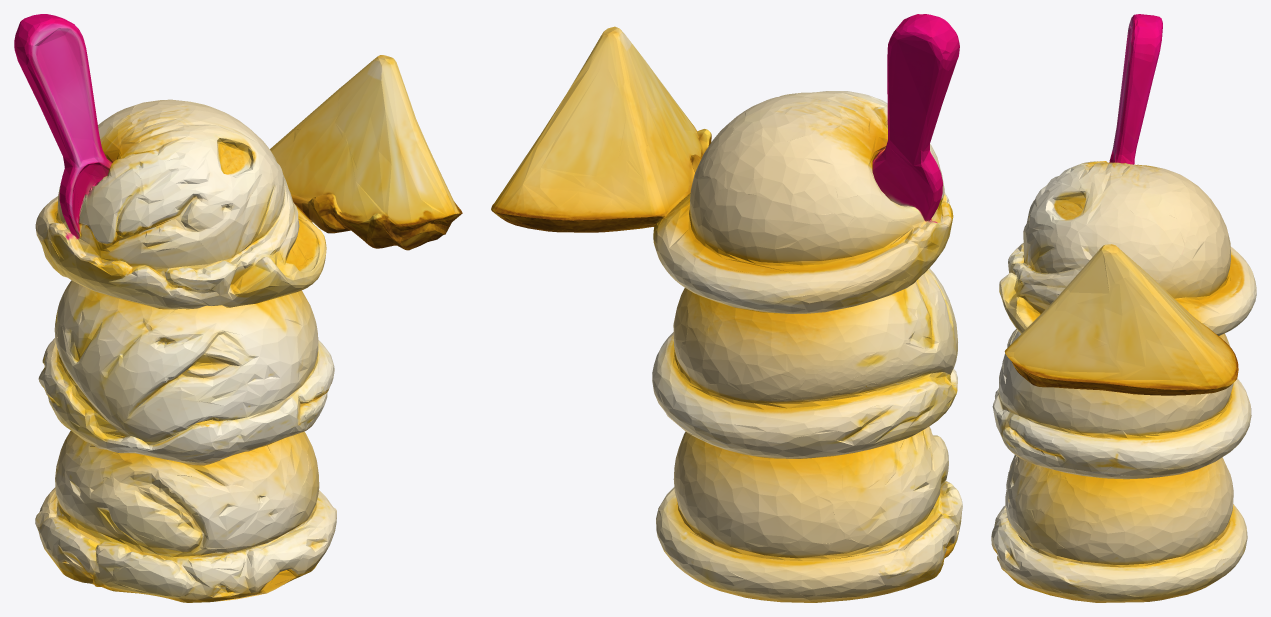
Rendered from Web_IceCream_Pineapple.obj.
3 renders of one model, left to right at view 1: azimuth 30°, elevation 25°; view 2: azimuth 150°, elevation 25°; view 3: azimuth 270°, elevation 25°, orthographic. The views are drawn at different scales.
Visible parts, largest first — view 1: Web_IceCream_Pineapple; view 2: Web_IceCream_Pineapple; view 3: Web_IceCream_Pineapple.
Boxes of the visible parts, left/top/right/bottom form: Web_IceCream_Pineapple: left=14, top=14, right=462, bottom=602; Web_IceCream_Pineapple: left=491, top=14, right=962, bottom=602; Web_IceCream_Pineapple: left=991, top=14, right=1256, bottom=602.
Size of the model in its own units: 0.8282 by 1.08 by 0.5371.
1 material, 1 textured.
